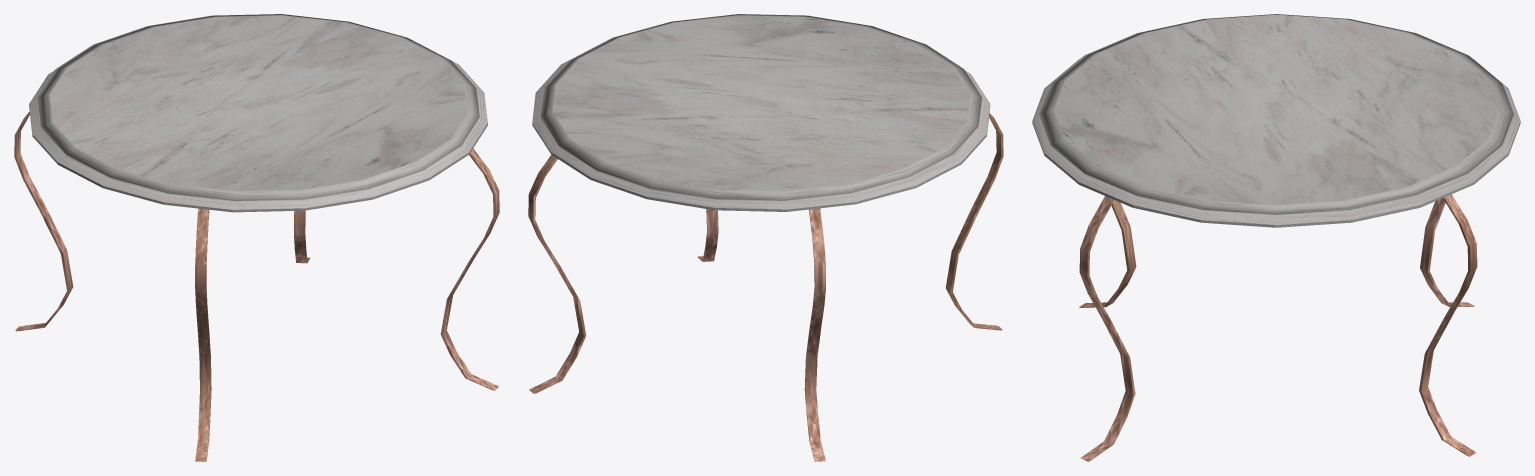
The model's file is Mesa.FBX.
The picture shows the model from 3 angles, left to right: view 1: azimuth 30°, elevation 25°; view 2: azimuth 150°, elevation 25°; view 3: azimuth 270°, elevation 25°; orthographic projection. The views are drawn at different scales.
Parts seen in each view (by area): view 1: Cylinder001, Box001, Box002, Box004, Box003; view 2: Cylinder001, Box004, Box003, Box001, Box002; view 3: Cylinder001, Box002, Box003, Box004, Box001.
Part boxes in pixels (x1,y1,x2,y2): Cylinder001: [29, 14, 487, 212]; Box001: [195, 208, 211, 461]; Box002: [440, 148, 499, 390]; Box004: [14, 112, 73, 331]; Box003: [294, 210, 309, 263]; Cylinder001: [532, 14, 990, 211]; Box004: [804, 208, 825, 461]; Box003: [528, 155, 586, 393]; Box001: [945, 113, 1003, 330]; Box002: [697, 209, 718, 261]; Cylinder001: [1032, 14, 1520, 227]; Box002: [1079, 196, 1135, 461]; Box003: [1419, 194, 1477, 456]; Box004: [1420, 198, 1474, 306]; Box001: [1079, 200, 1136, 307].
Size of the model in its own units: 208 by 127 by 206.
